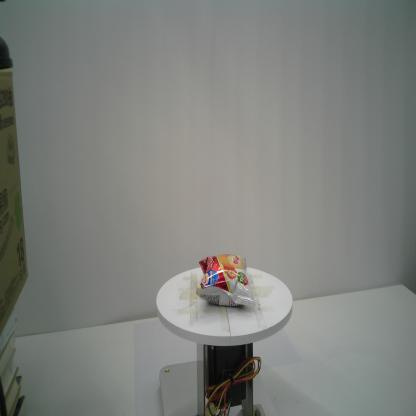Dessert: (190, 251, 255, 309)
